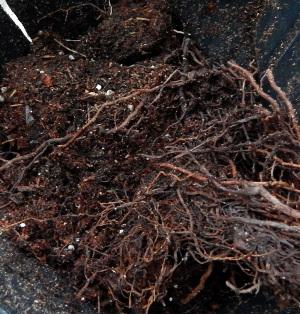root_rot: (23, 48, 298, 314)
